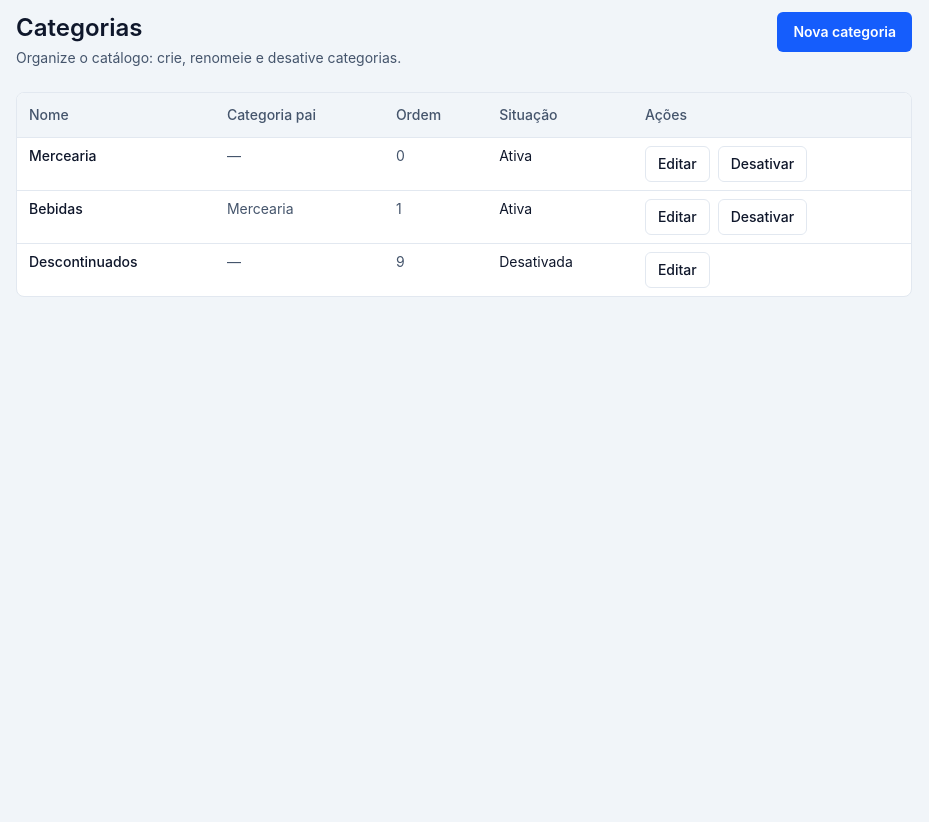
Test: CategoriesPage — desativar › mostra mensagem clara e recarrega a lista quando o DELETE repetido leva 404
The image size is (929, 822).
Expected: the cell "Bebidas" is shown, x1=17 y1=190 x2=215 y2=244
Step 1. Click the button with aria-label "Desativar Mercearia" → (762, 164), box x1=718 y1=146 x2=807 y2=182
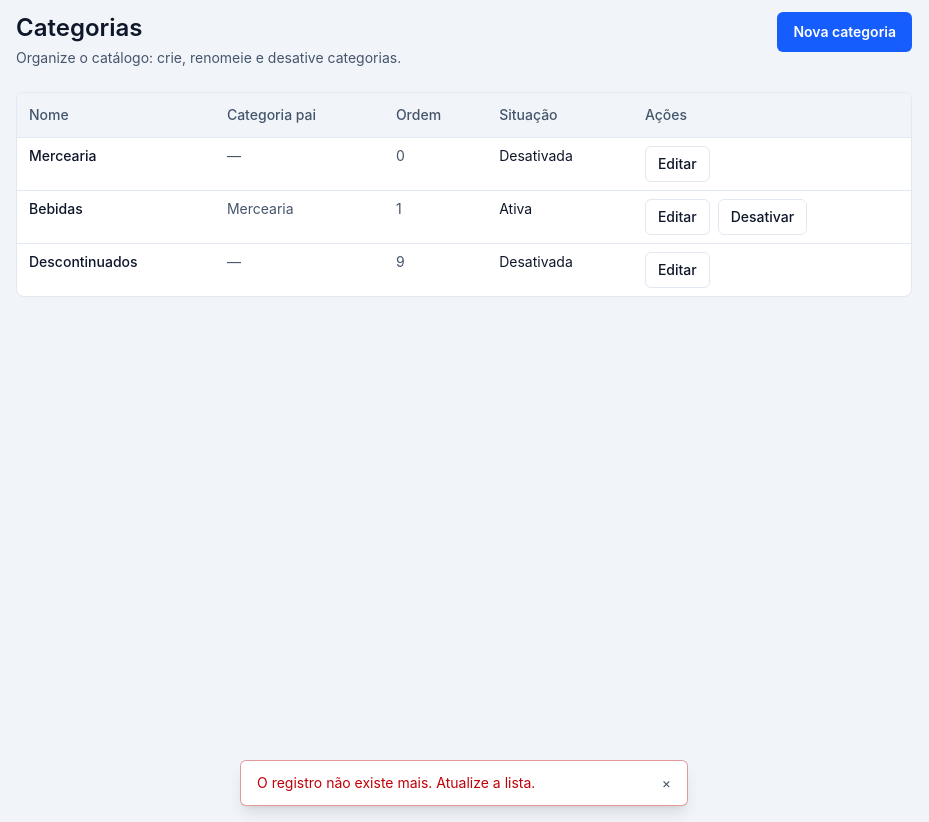
Expected: the message shows "O registro não existe mais. Atualize a lista.", x1=257 y1=774 x2=535 y2=791
